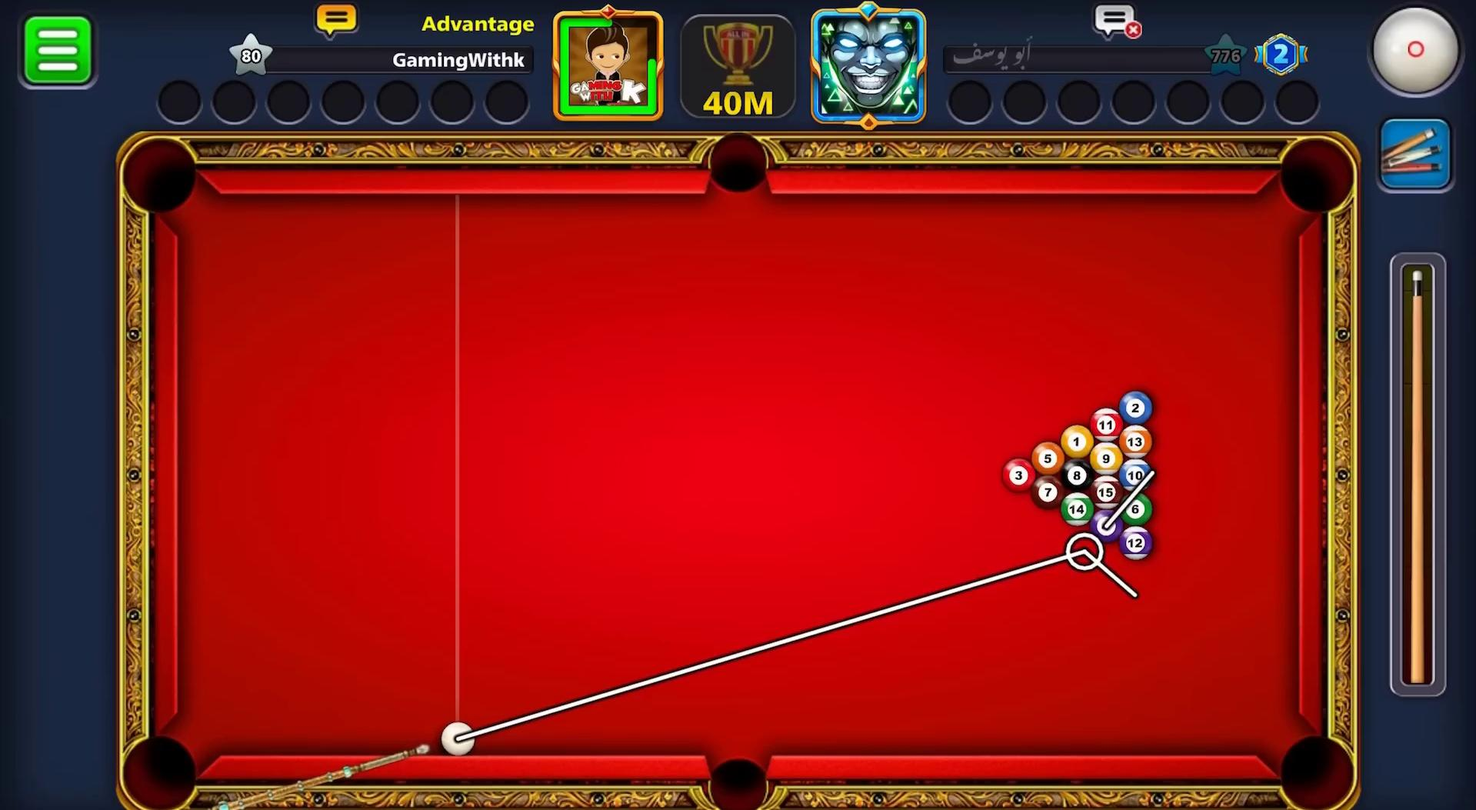Ball: (1089, 404, 1123, 444), (1118, 388, 1153, 425), (1060, 421, 1093, 458), (1119, 526, 1152, 562), (1032, 438, 1065, 474), (1118, 459, 1152, 493), (1002, 456, 1034, 492), (1119, 493, 1153, 526), (1119, 425, 1152, 459), (1031, 475, 1063, 510), (1091, 477, 1123, 511), (1061, 492, 1092, 527), (1061, 458, 1092, 492), (1091, 442, 1121, 475), (1091, 510, 1121, 542)
Force: (1391, 251, 1448, 709)
Guideline: (455, 463, 1169, 748)
Hole: (118, 125, 214, 232), (1272, 122, 1361, 228), (1264, 721, 1368, 809), (118, 715, 214, 809), (692, 728, 784, 809), (703, 122, 773, 211)
Play_Area: (177, 192, 1296, 754)
Spin: (1362, 1, 1474, 107)
White: (438, 721, 480, 755)
